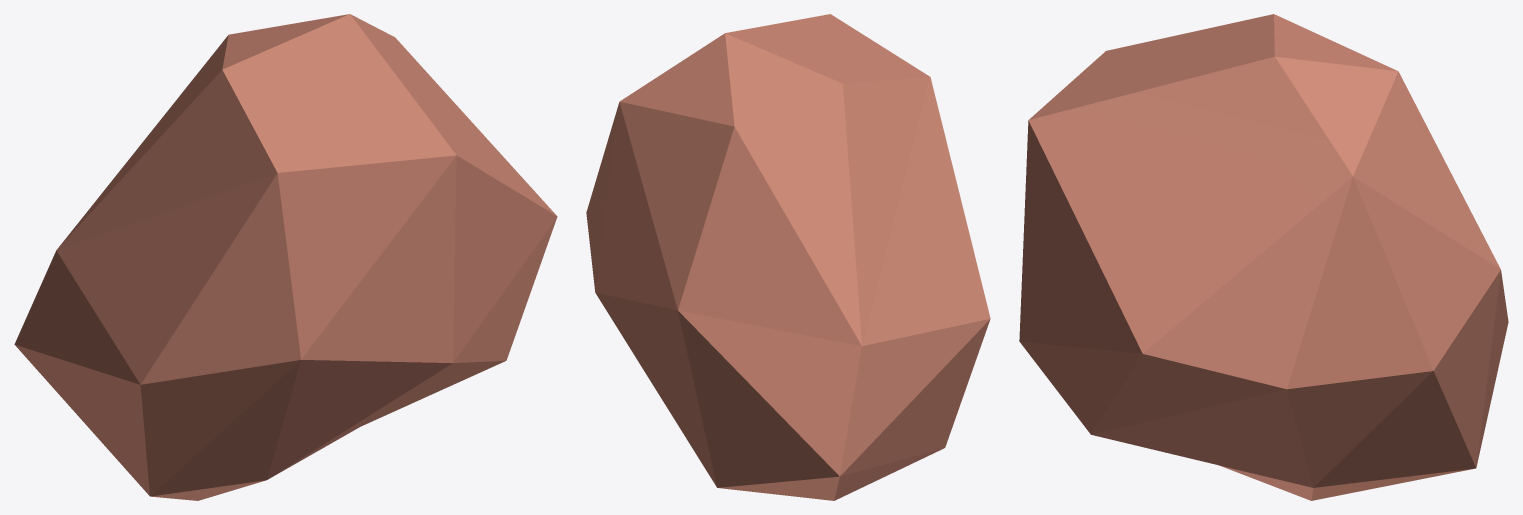
Rendered from stone_003.fbx.
The picture shows the model from 3 angles, left to right: view 1: azimuth 30°, elevation 25°; view 2: azimuth 150°, elevation 25°; view 3: azimuth 270°, elevation 25°; orthographic projection. The views are drawn at different scales.
Parts seen in each view (by area): view 1: stone_003; view 2: stone_003; view 3: stone_003.
Part boxes in pixels (left/top/right/bottom): stone_003: left=14, top=14, right=557, bottom=500; stone_003: left=586, top=14, right=990, bottom=500; stone_003: left=1019, top=14, right=1508, bottom=500.
Bounding box in the file's own units: 154 × 147 × 172.
